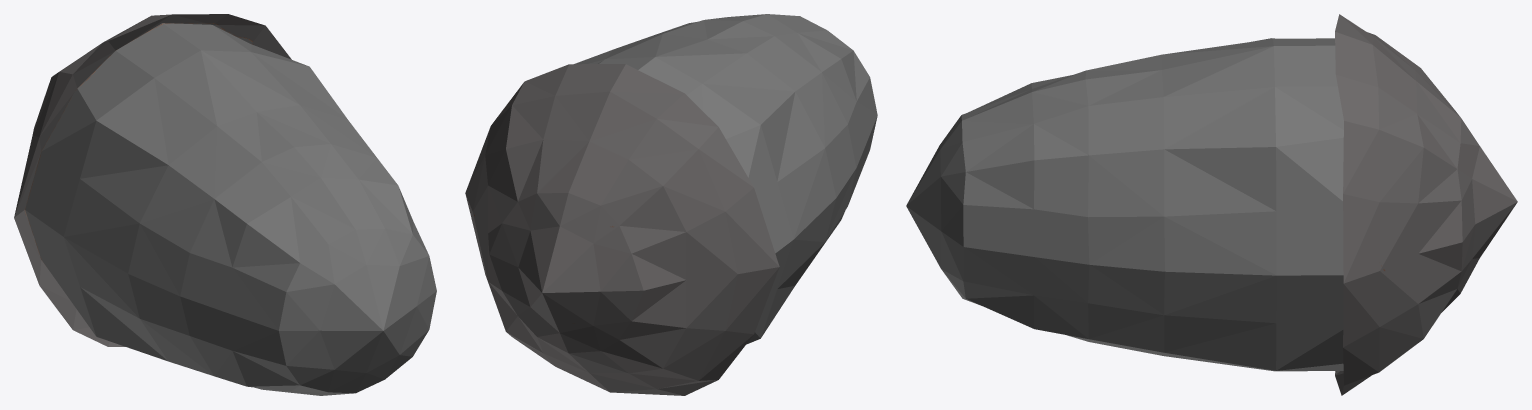
Rendered from enemyBullet.obj.
3 renders of one model, left to right at view 1: azimuth 30°, elevation 25°; view 2: azimuth 150°, elevation 25°; view 3: azimuth 270°, elevation 25°, orthographic. The views are drawn at different scales.
Parts seen in each view (by area): view 1: Cube; view 2: Cube; view 3: Cube.
Boxes of the visible parts, left/top/right/bottom form: Cube: left=14, top=14, right=436, bottom=395; Cube: left=465, top=14, right=877, bottom=395; Cube: left=906, top=14, right=1517, bottom=395.
Size of the model in its own units: 1.68 by 1.69 by 2.73.
